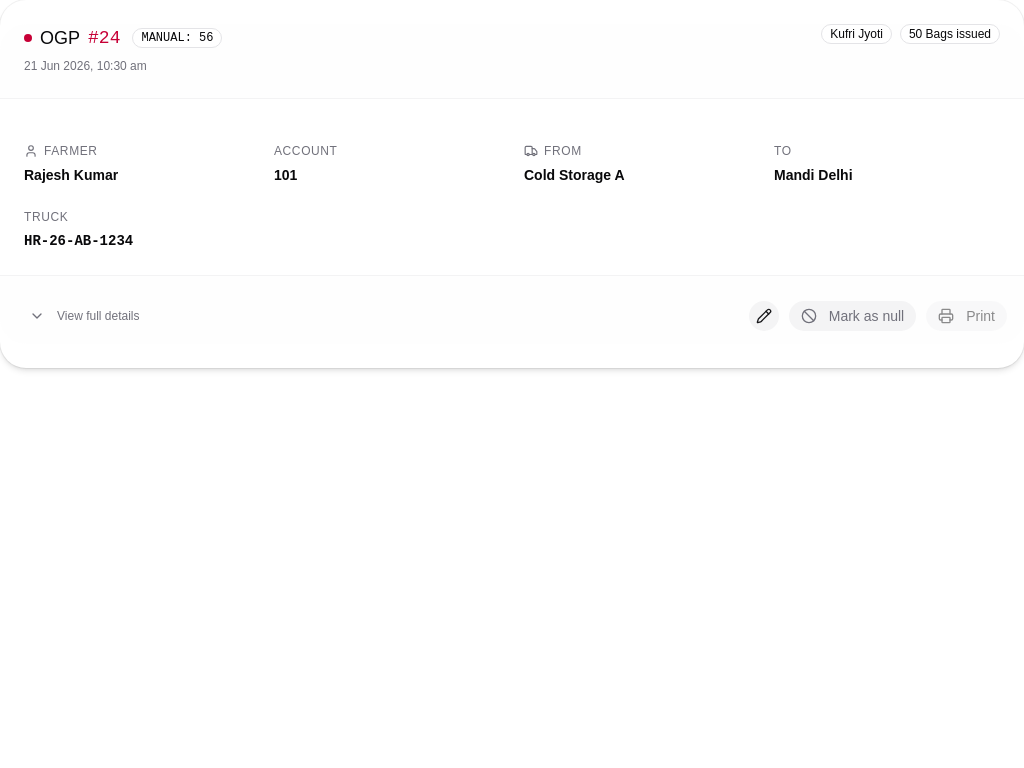
Test: OutgoingGatePassCard mark as null › opens the confirmation dialog when Mark as null is clicked
Click the button with aria-label "mark outgoing gate pass 24 as null".
click(852, 316)  # box [788,300,917,332]
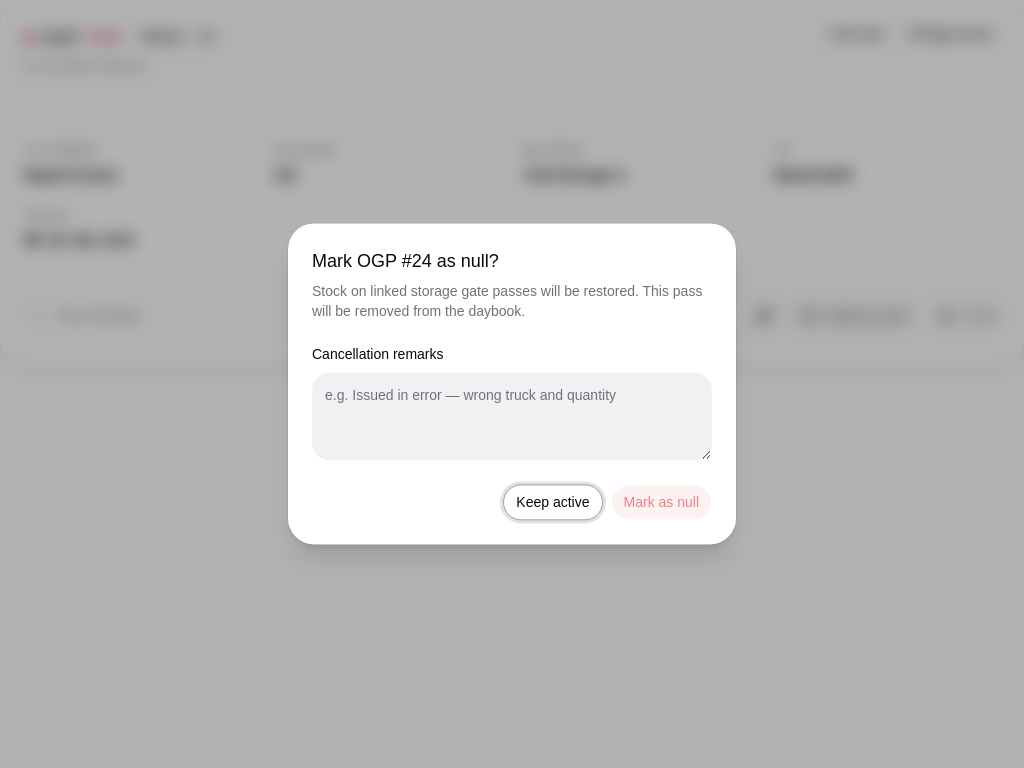
expect the heading "Mark OGP #24 as null?" is shown: met, box [312,247,499,275]
